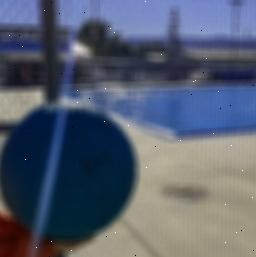algae: (0, 104, 139, 241)
